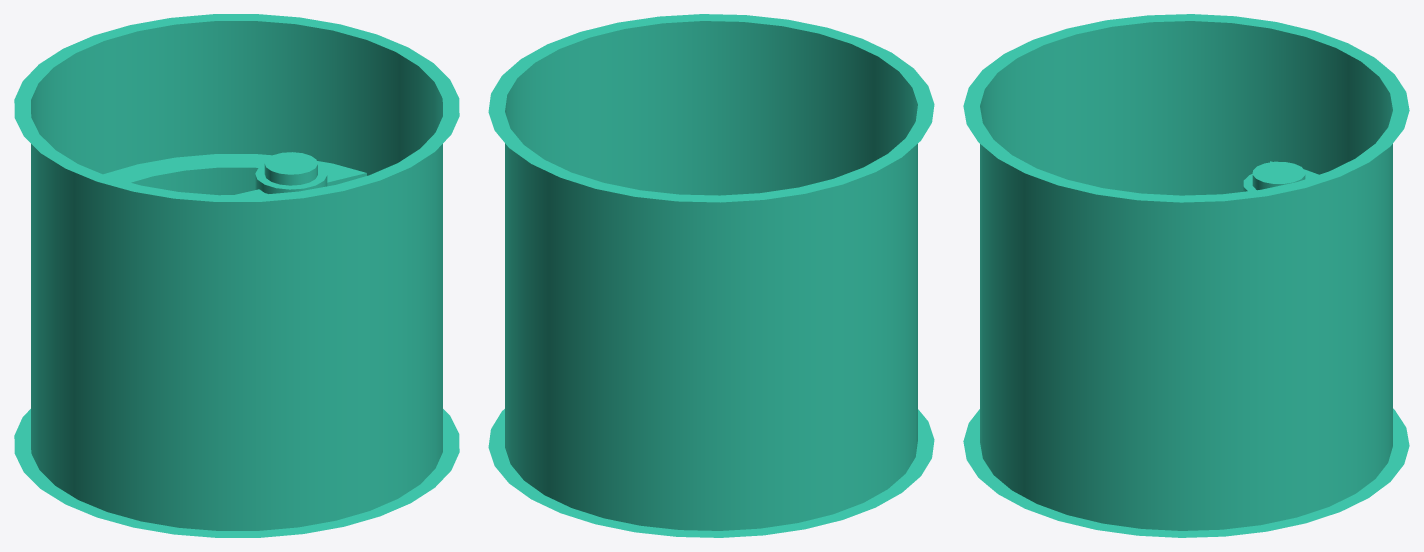
File: Floor_A_LadderEx_2m.FBX
3 renders of one model, left to right at view 1: azimuth 30°, elevation 25°; view 2: azimuth 150°, elevation 25°; view 3: azimuth 270°, elevation 25°, orthographic.
Parts seen in each view (by area): view 1: Floor_A_LadderEx_2m; view 2: Floor_A_LadderEx_2m; view 3: Floor_A_LadderEx_2m.
Boxes of the visible parts, x1=… form: Floor_A_LadderEx_2m: x1=14, y1=14, x2=459, y2=537; Floor_A_LadderEx_2m: x1=488, y1=14, x2=934, y2=537; Floor_A_LadderEx_2m: x1=963, y1=14, x2=1409, y2=537.
Bounding box in the file's own units: 241 × 200 × 241.
